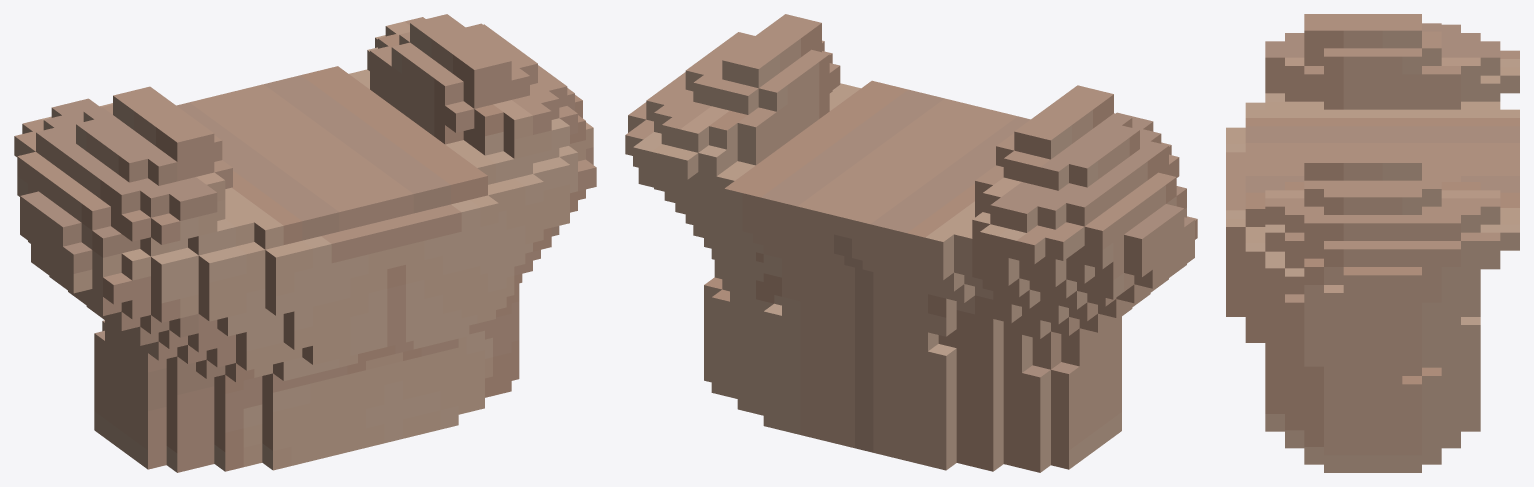
File: torso.gltf
3 renders of one model, left to right at view 1: azimuth 30°, elevation 25°; view 2: azimuth 150°, elevation 25°; view 3: azimuth 270°, elevation 25°, orthographic. The views are drawn at different scales.
Visible parts, largest first — view 1: torso; view 2: torso; view 3: torso.
Part boxes in pixels (left/top/right/bottom): torso: left=14, top=14, right=596, bottom=472; torso: left=625, top=14, right=1197, bottom=472; torso: left=1226, top=14, right=1519, bottom=472.
Bounding box in the file's own units: 28 × 17 × 15.
